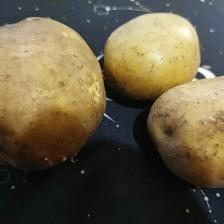Damaged potato: (0, 13, 107, 173), (147, 76, 224, 191)
Potato: (102, 11, 204, 102)
